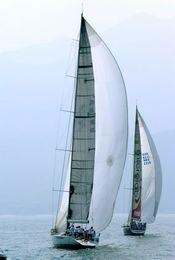fanchuan: (45, 8, 136, 252), (122, 107, 167, 238)
